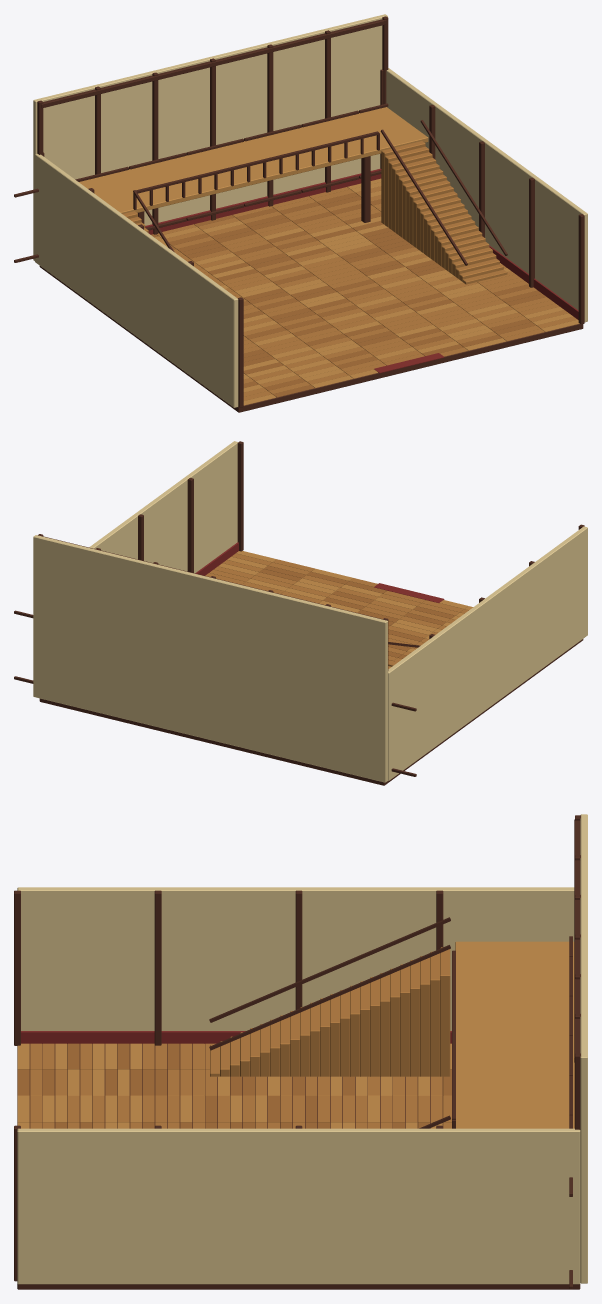
The model's file is SM_Guild_Architecture_Detailed.fbx.
3 views of the same model, one above another, from view 1: azimuth 30°, elevation 25°; view 2: azimuth 150°, elevation 25°; view 3: azimuth 270°, elevation 25° (orthographic). The views are drawn at different scales.
Parts seen in each view (by area): view 1: RearWall, SideWall, SideWall.001, UpperGallery, FloorSupport, RearTie.001, RearSkirting, GalleryRailTop, WallSkirting.001, WallPost.005, RearTimber.004, RearTimber.002 (+12 smaller); view 2: RearWall, SideWall, SideWall.001, FloorSupport, WallPost.005, WallPost.006; view 3: SideWall.001, SideWall, UpperGallery, FloorSupport, RearWall, WallSkirting, RearTie.001, Stair_-1_23, Stair_-1_22, Stair_-1_21, Stair_-1_20, WallPost.001 (+17 smaller).
Part boxes in pixels (x1=…): RearWall: x1=33, y1=14, x2=387, y2=260; SideWall: x1=35, y1=154, x2=238, y2=407; SideWall.001: x1=386, y1=68, x2=587, y2=322; UpperGallery: x1=79, y1=107, x2=428, y2=213; FloorSupport: x1=39, y1=266, x2=583, y2=412; RearTie.001: x1=41, y1=19, x2=386, y2=108; RearSkirting: x1=145, y1=168, x2=381, y2=234; GalleryRailTop: x1=136, y1=131, x2=378, y2=193; WallSkirting.001: x1=489, y1=245, x2=578, y2=319; WallPost.005: x1=578, y1=214, x2=584, y2=324; RearTimber.004: x1=267, y1=44, x2=273, y2=206; RearTimber.002: x1=152, y1=72, x2=158, y2=234; RearWall: x1=33, y1=535, x2=387, y2=782; SideWall: x1=388, y1=526, x2=587, y2=780; SideWall.001: x1=89, y1=441, x2=237, y2=573; FloorSupport: x1=39, y1=639, x2=583, y2=785; WallPost.005: x1=237, y1=441, x2=243, y2=551; WallPost.006: x1=187, y1=477, x2=193, y2=572; SideWall.001: x1=17, y1=1128, x2=580, y2=1284; SideWall: x1=17, y1=887, x2=574, y2=1030; UpperGallery: x1=455, y1=941, x2=574, y2=1128; FloorSupport: x1=17, y1=1044, x2=580, y2=1289; RearWall: x1=580, y1=814, x2=587, y2=1283; WallSkirting: x1=21, y1=1031, x2=451, y2=1044; RearTie.001: x1=574, y1=819, x2=580, y2=1062; Stair_-1_23: x1=440, y1=947, x2=450, y2=1076; Stair_-1_22: x1=430, y1=951, x2=440, y2=1076; Stair_-1_21: x1=420, y1=956, x2=430, y2=1076; Stair_-1_20: x1=410, y1=960, x2=420, y2=1076; WallPost.001: x1=154, y1=890, x2=161, y2=1045.
Bounding box in the file's own units: 2095 × 1835 × 830.
